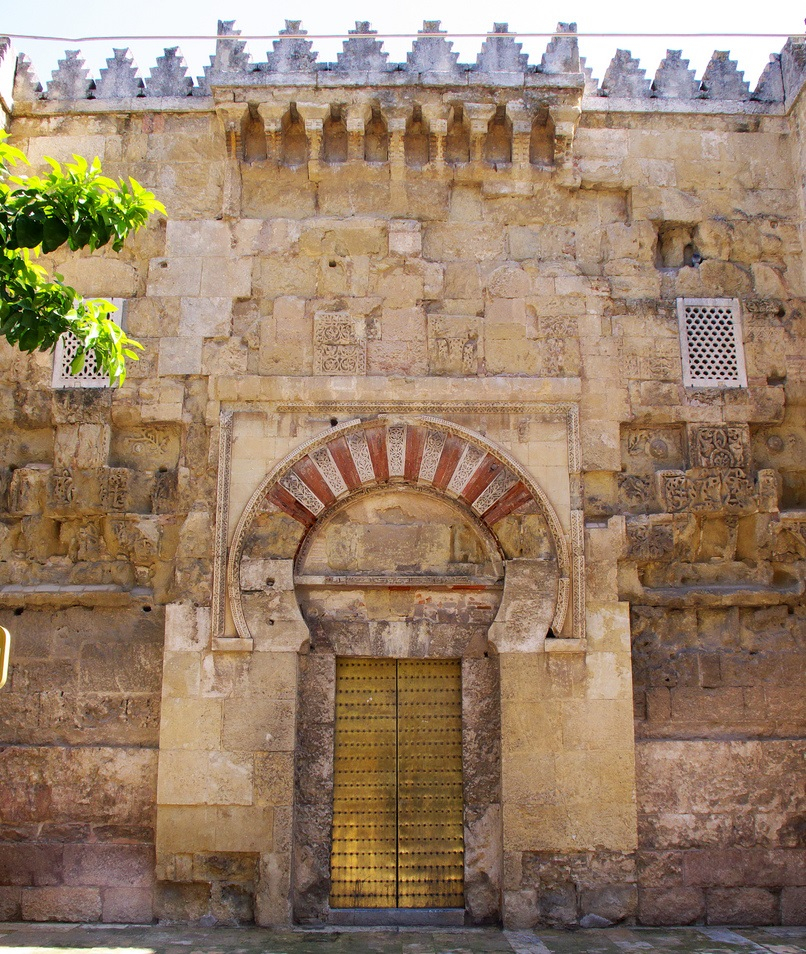arco-herradura: (273, 458, 527, 686)
